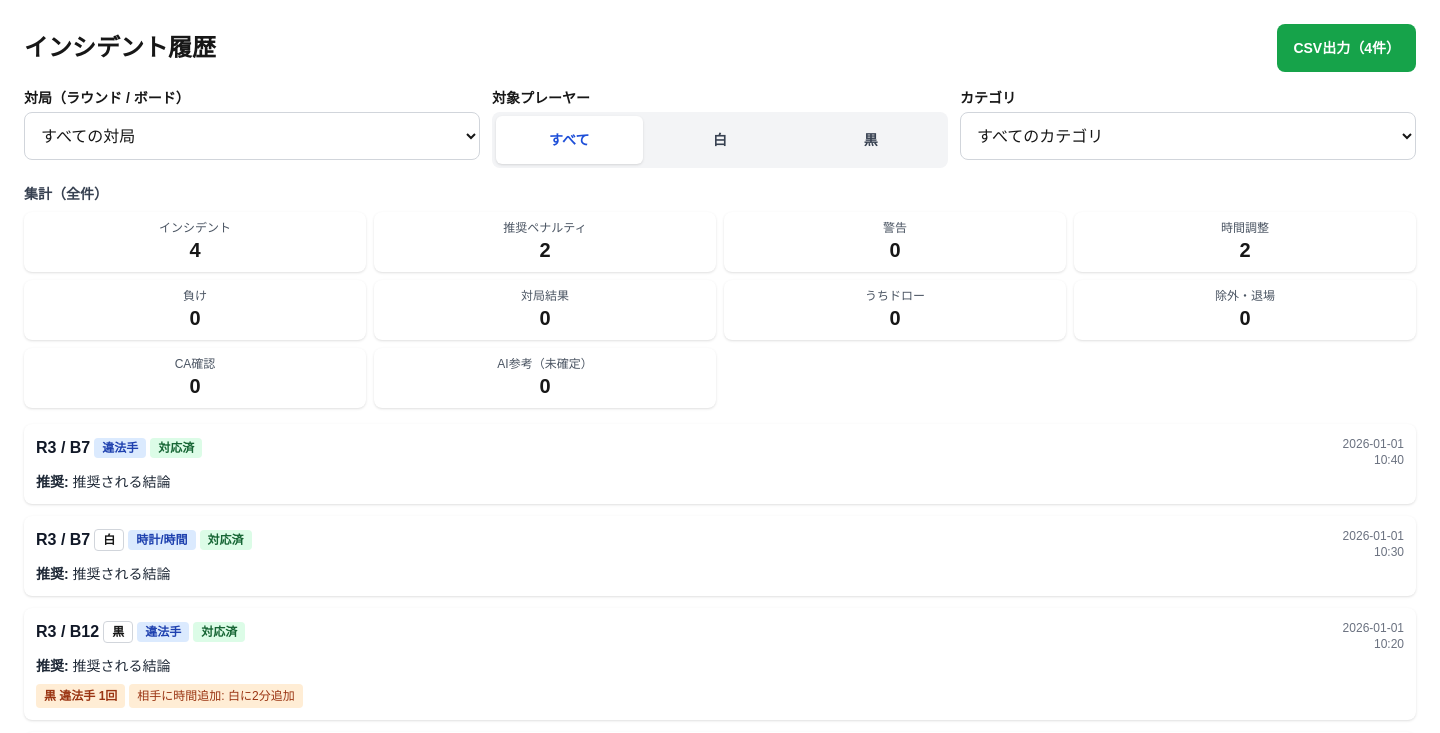
Test: IncidentLogView › hints how many colourless legacy incidents a colour filter hides
Check: the text "色情報のない旧データ" is not shown
Click the button "白". click: (720, 140)
box: [647,116,793,164]
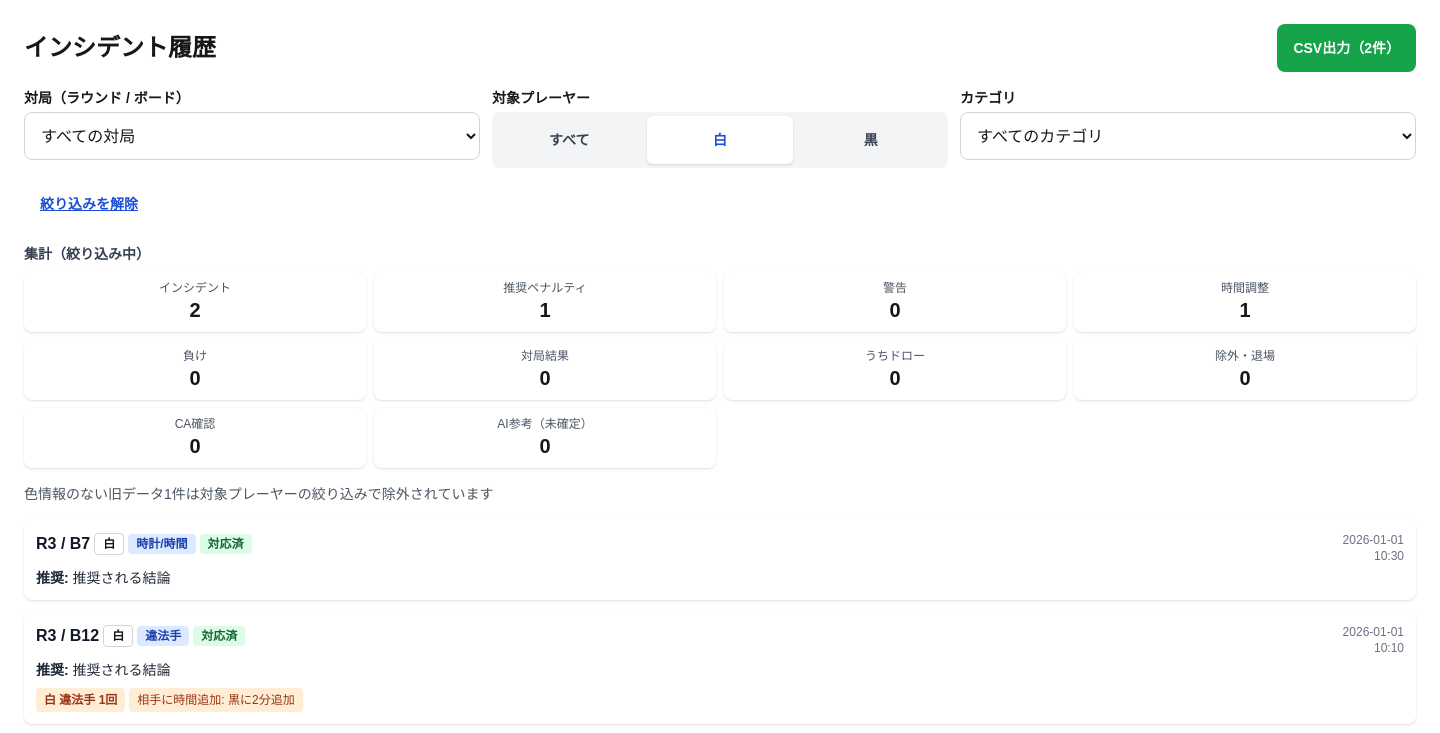
Check: the text "色情報のない旧データ1件は対象プレーヤーの絞り込みで除外されています" is shown, box [24,486,493,502]
